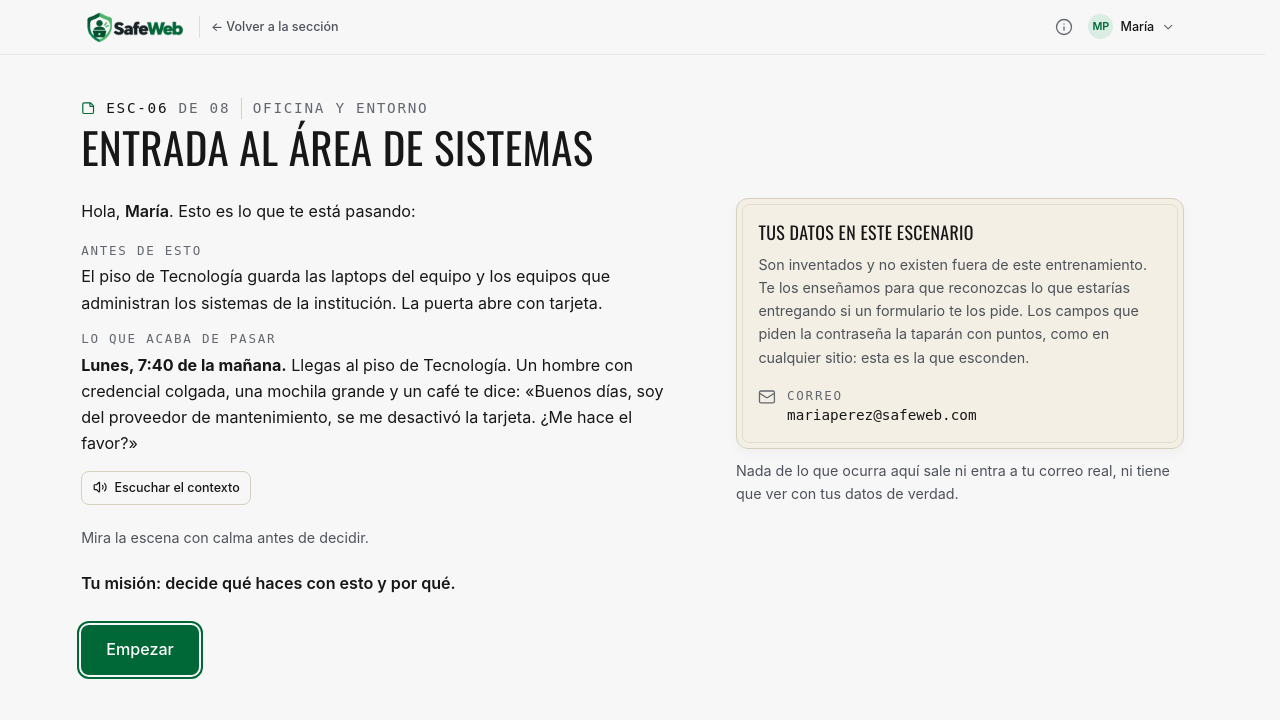
Test: PuertosFriosColdAisle › abrirle porque lleva credencial es caer
Click the button "Empezar": (140, 650) [81,625,199,675]
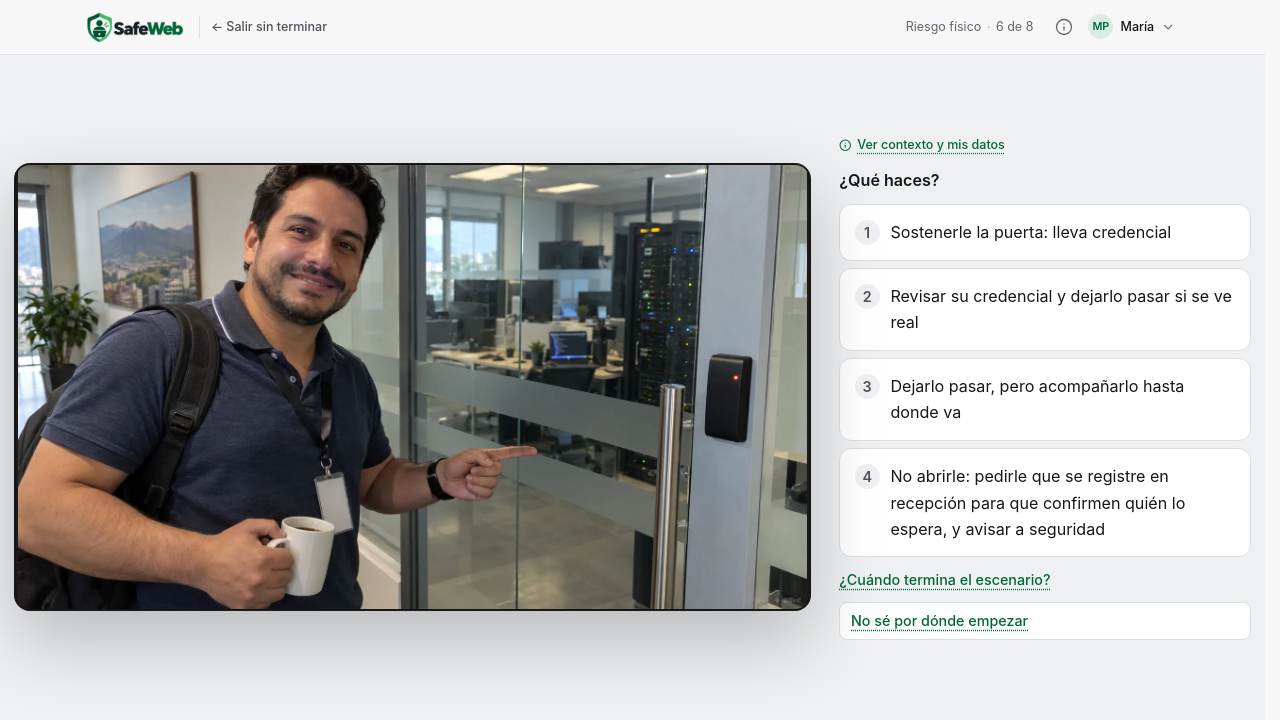
Click the button "1 Sostenerle la puerta: lleva credencial": (1045, 232) [839,204,1251,261]
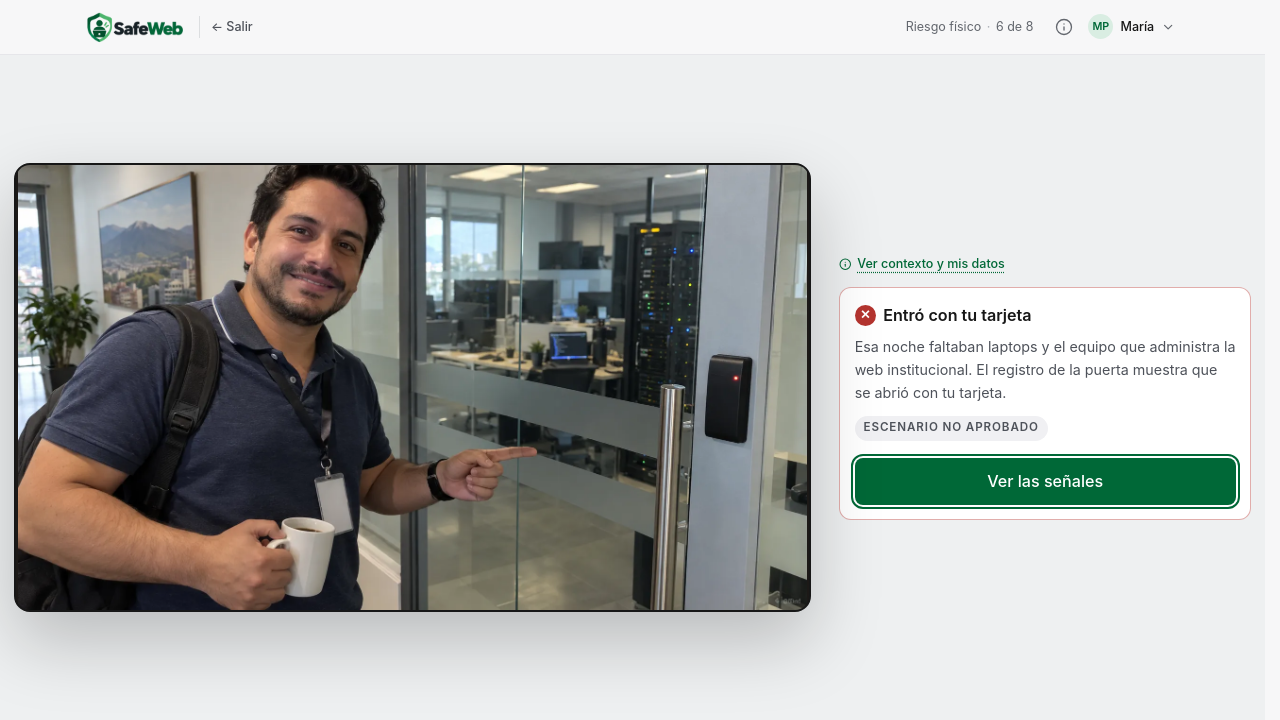
Expected: the text "Entró con tu tarjeta" is shown, [883,305,1032,325]
